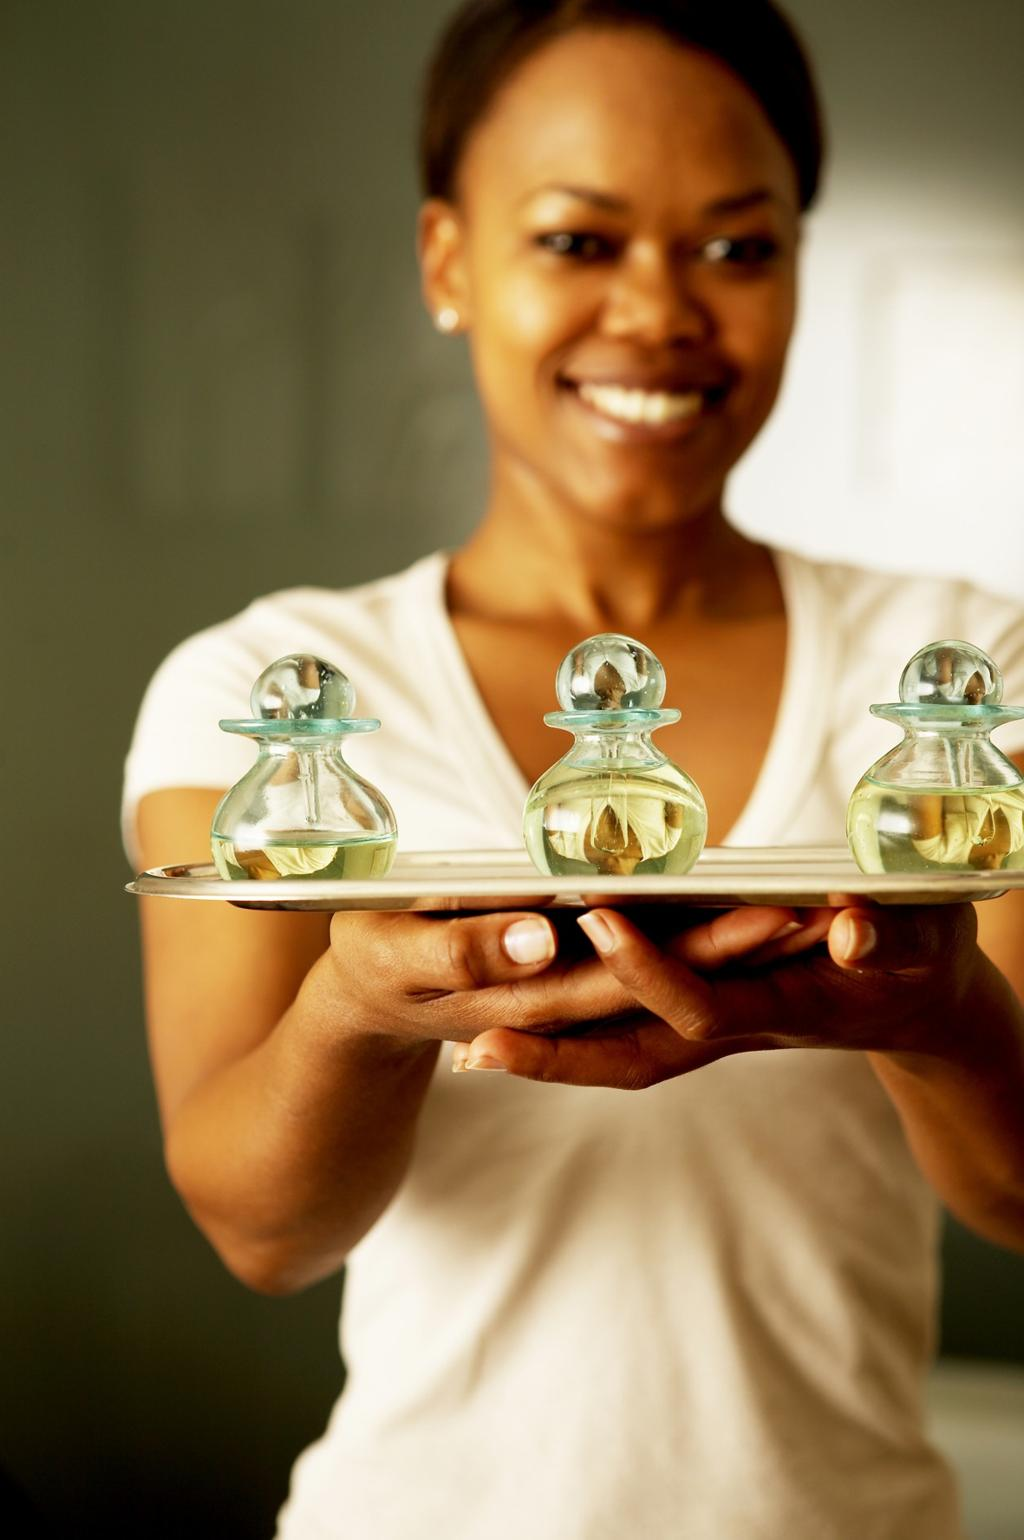face: (449, 87, 798, 521)
